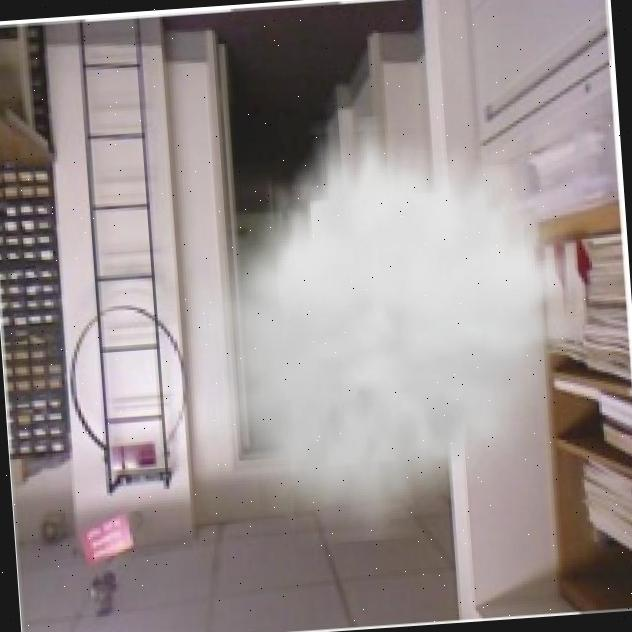smoke: (179, 103, 596, 552)
